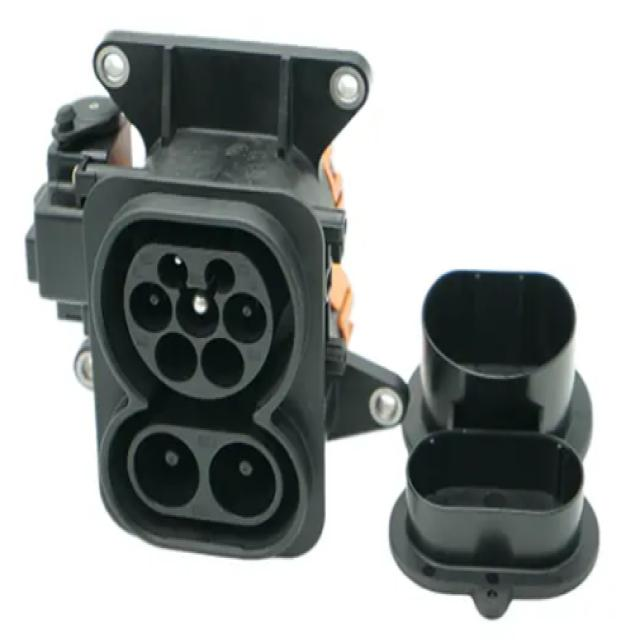inlet: (123, 244, 273, 400)
inlet-above-left: (157, 253, 188, 289)
inlet-above-right: (204, 257, 235, 295)
inlet-below-left: (156, 332, 198, 382)
inlet-below-right: (201, 338, 245, 389)
inlet-circle: (176, 287, 220, 337)
inlet-circle-left: (129, 281, 172, 332)
inlet-circle-right: (223, 292, 267, 344)
inlet-minus: (209, 441, 276, 518)
inlet-plus: (134, 432, 200, 507)
